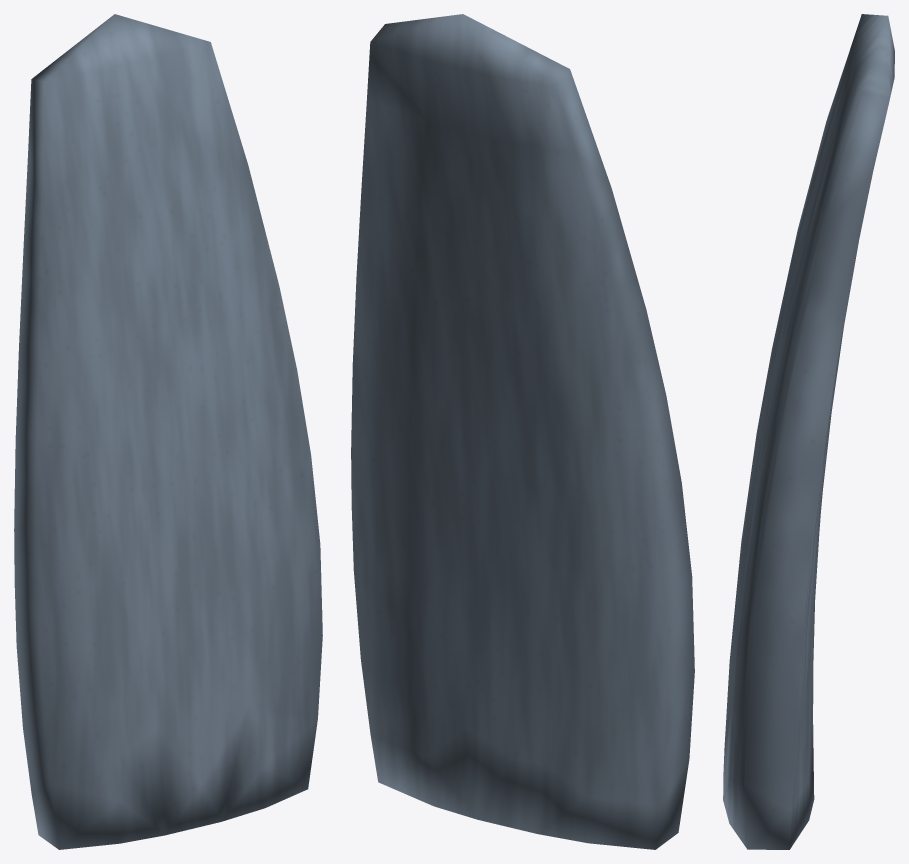
The model's file is cpart_flipper.glb.
The picture shows the model from 3 angles, left to right: view 1: azimuth 30°, elevation 25°; view 2: azimuth 150°, elevation 25°; view 3: azimuth 270°, elevation 25°; orthographic projection. The views are drawn at different scales.
Parts seen in each view (by area): view 1: Flipper; view 2: Flipper; view 3: Flipper.
Boxes of the visible parts, x1,y1,x2,y2 form: Flipper: [14, 14, 322, 849]; Flipper: [351, 14, 694, 849]; Flipper: [723, 14, 894, 849].
Bounding box in the file's own units: 0.0835 × 0.2136 × 0.0431.
1 material, 1 textured.
